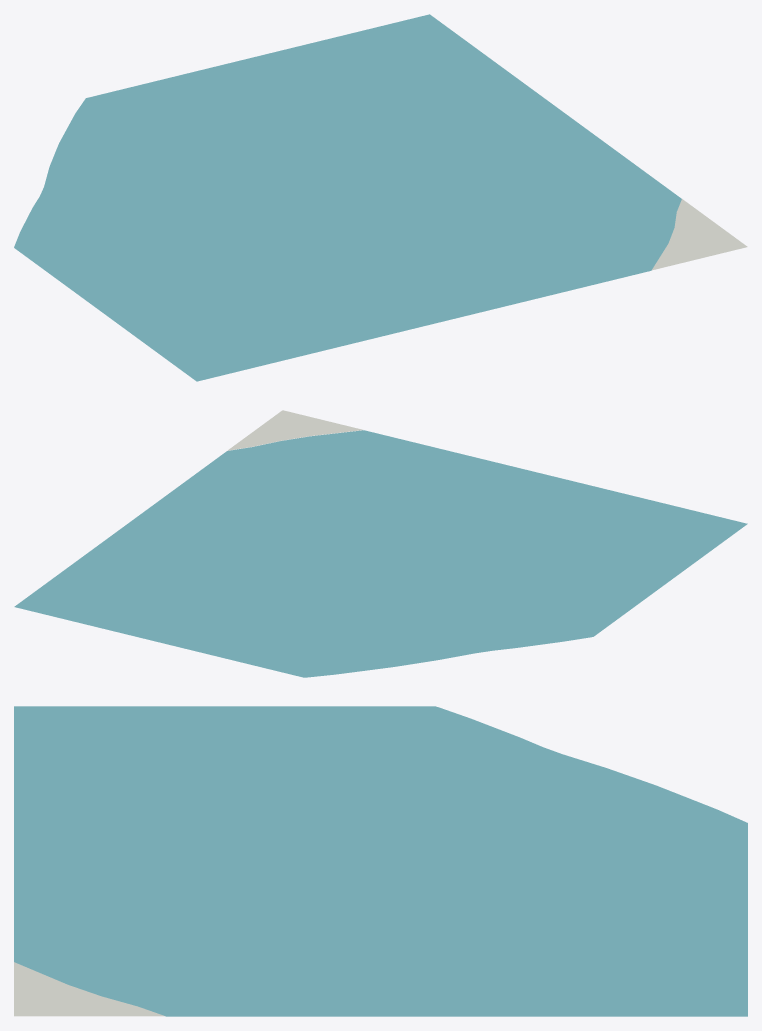
The picture shows the model from 3 angles, top to bottom: view 1: azimuth 30°, elevation 25°; view 2: azimuth 150°, elevation 25°; view 3: azimuth 270°, elevation 25°; orthographic projection. The views are drawn at different scales.
Visible parts, largest first — view 1: city; view 2: city; view 3: city.
Boxes of the visible parts, <box> form: city: <box>14,14,747,381</box>; city: <box>14,410,747,677</box>; city: <box>14,706,747,1016</box>.
Size of the model in its own units: 500 by 0.18 by 500.
